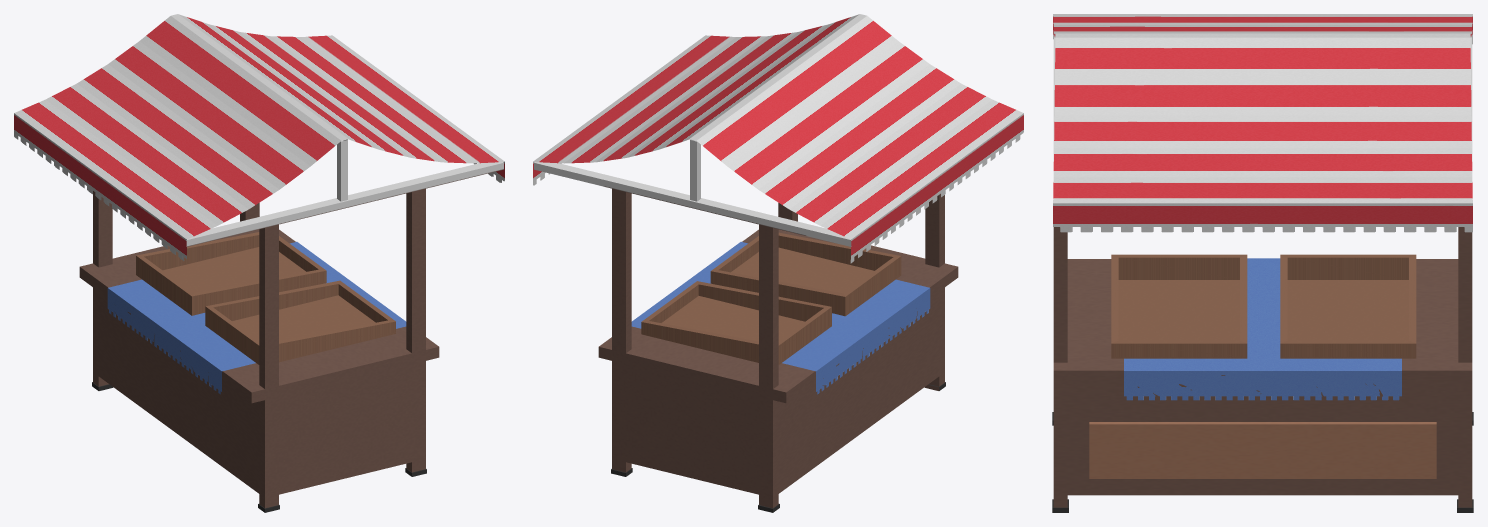
The model's file is market_stand.fbx.
The picture shows the model from 3 angles, left to right: view 1: azimuth 30°, elevation 25°; view 2: azimuth 150°, elevation 25°; view 3: azimuth 270°, elevation 25°; orthographic projection. The views are drawn at different scales.
Parts seen in each view (by area): view 1: Roof, Stand, Wares, Plaid; view 2: Roof, Stand, Wares, Plaid; view 3: Roof, Stand, Wares, Plaid.
Boxes of the visible parts, x1,y1,x2,y2 form: Roof: (14, 14, 504, 260); Stand: (79, 139, 503, 512); Wares: (136, 232, 395, 364); Plaid: (107, 241, 406, 394); Roof: (533, 14, 1023, 263); Stand: (534, 139, 958, 512); Wares: (641, 232, 901, 364); Plaid: (631, 241, 930, 394); Roof: (1053, 14, 1472, 232); Stand: (1052, 30, 1473, 512); Wares: (1111, 254, 1416, 358); Plaid: (1124, 258, 1401, 400).
Size of the model in its own units: 321 by 339 by 302.
Materials: 4 (4 with a texture image).
